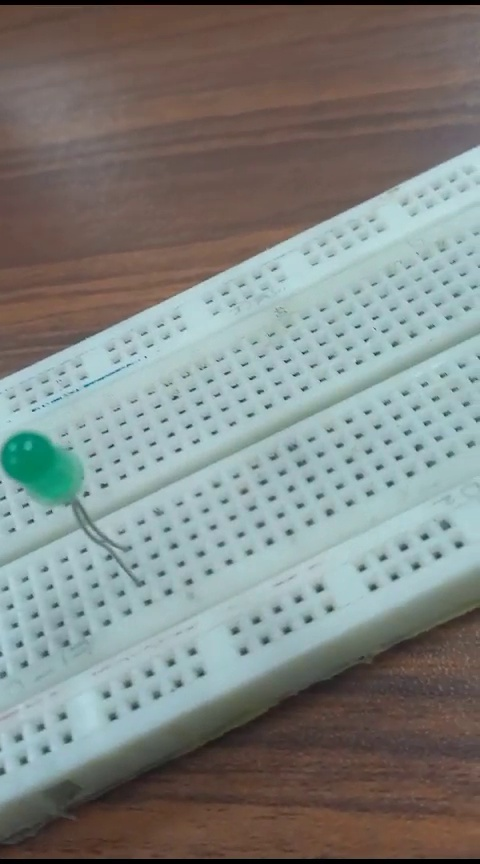LED: (6, 424, 156, 599)
